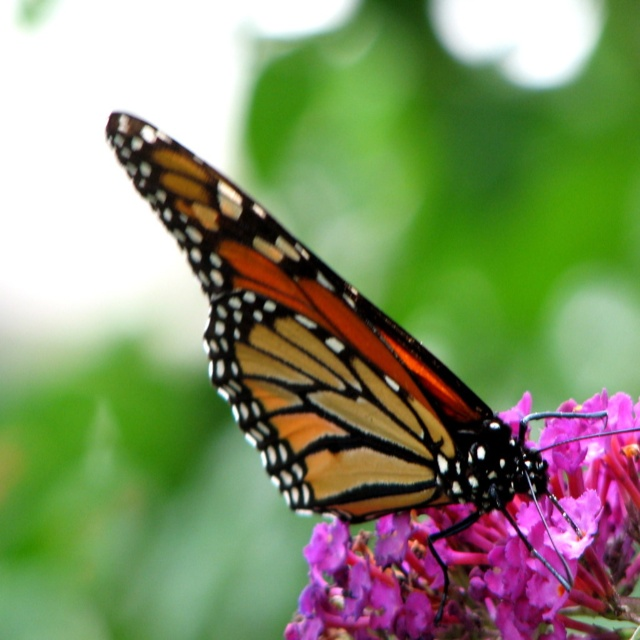Butterfly: (105, 108, 639, 625)
